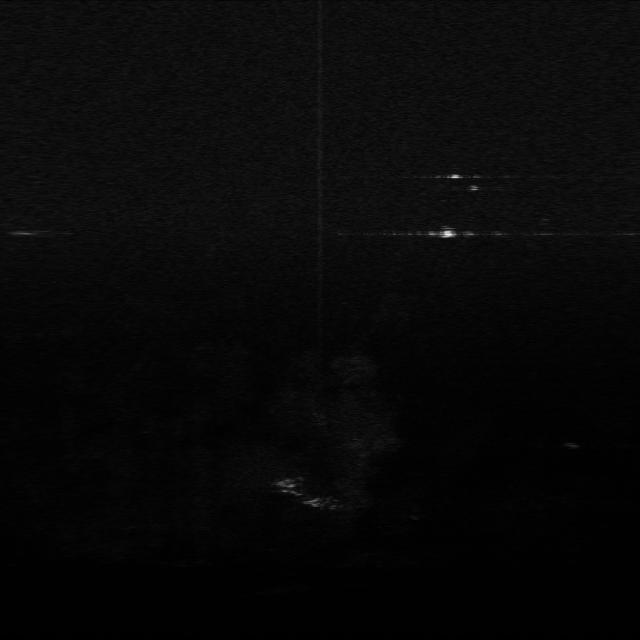rov: (436, 228, 460, 242)
